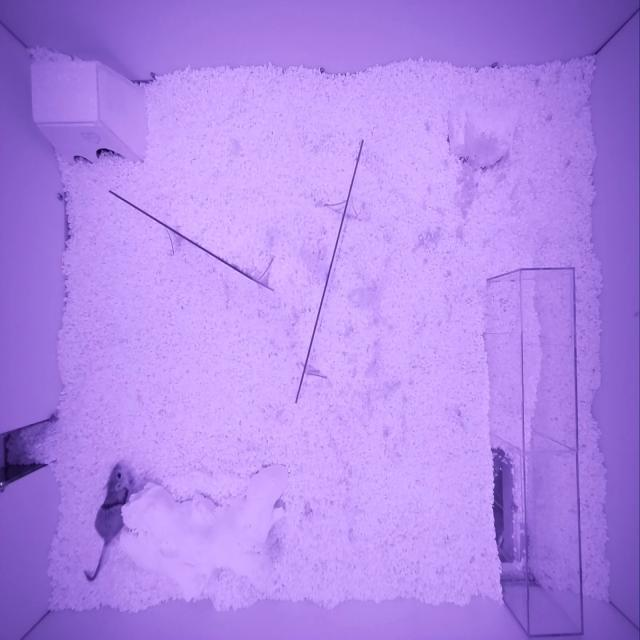adult_front: (94, 461, 130, 541)
